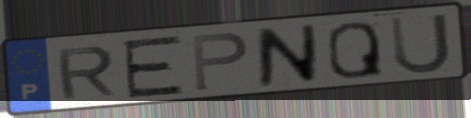E: (120, 33, 187, 100)
N: (255, 22, 320, 88)
P: (188, 30, 251, 93)
Q: (325, 20, 386, 81)
R: (54, 44, 119, 102)
U: (387, 11, 454, 77)
